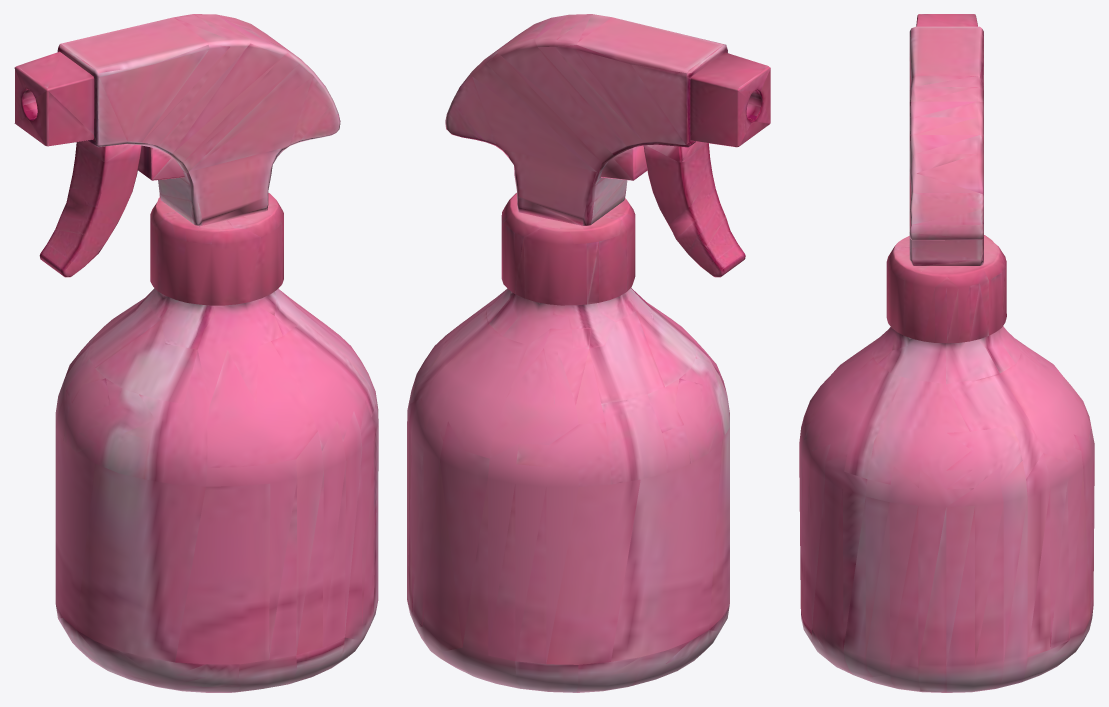
File: item-sparkleSpray.glb
The picture shows the model from 3 angles, left to right: view 1: azimuth 30°, elevation 25°; view 2: azimuth 150°, elevation 25°; view 3: azimuth 270°, elevation 25°; orthographic projection. The views are drawn at different scales.
Bounding box in the file's own units: 0.5317 × 0.9517 × 0.4595.
Materials: 1 (1 with a texture image).
